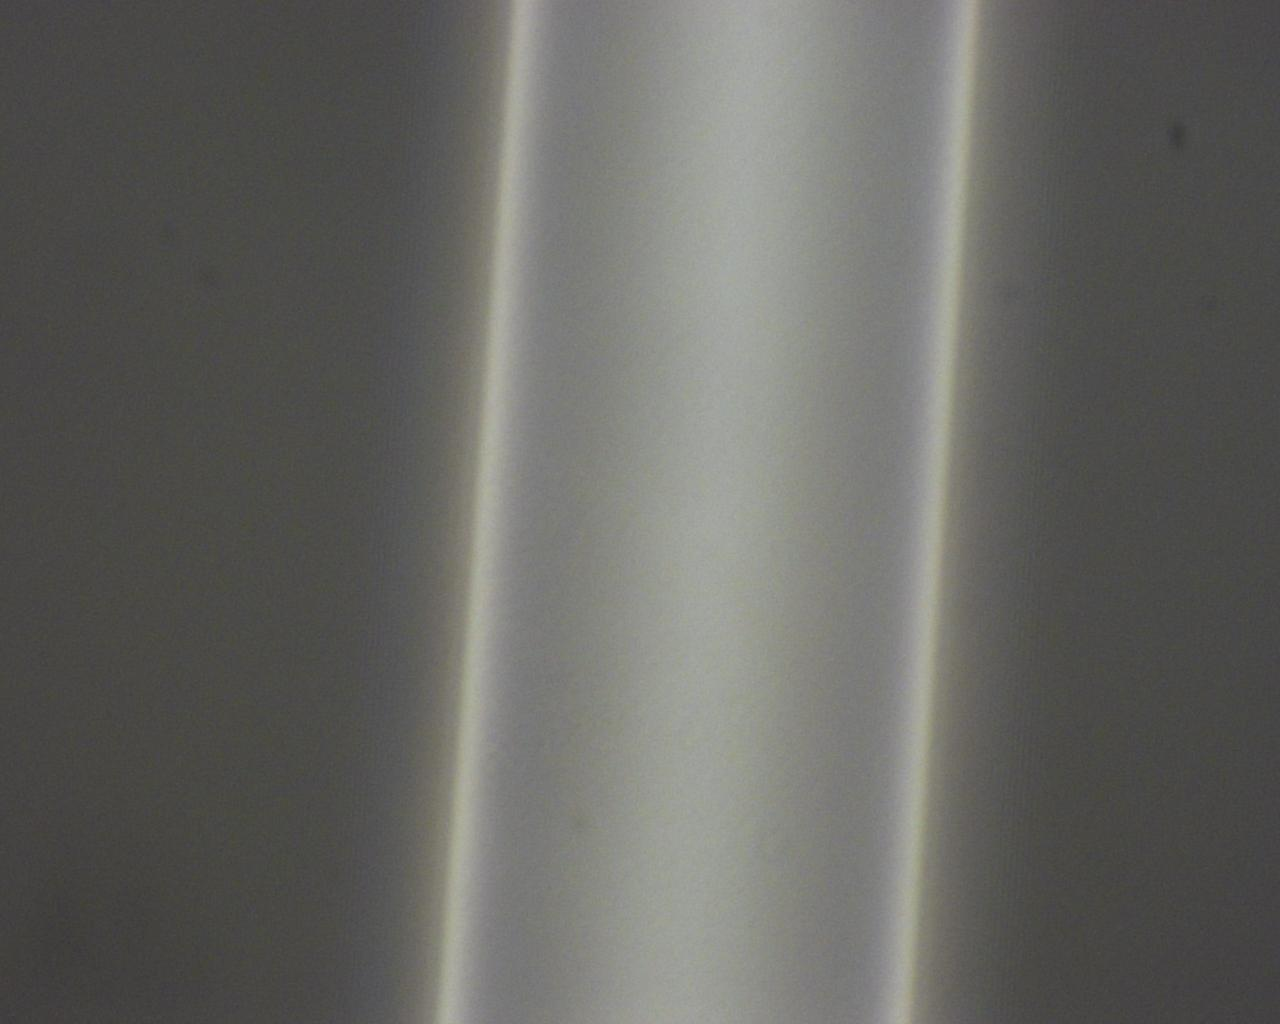fiber: (550, 243, 1179, 355), (0, 639, 550, 737), (0, 737, 550, 821)
